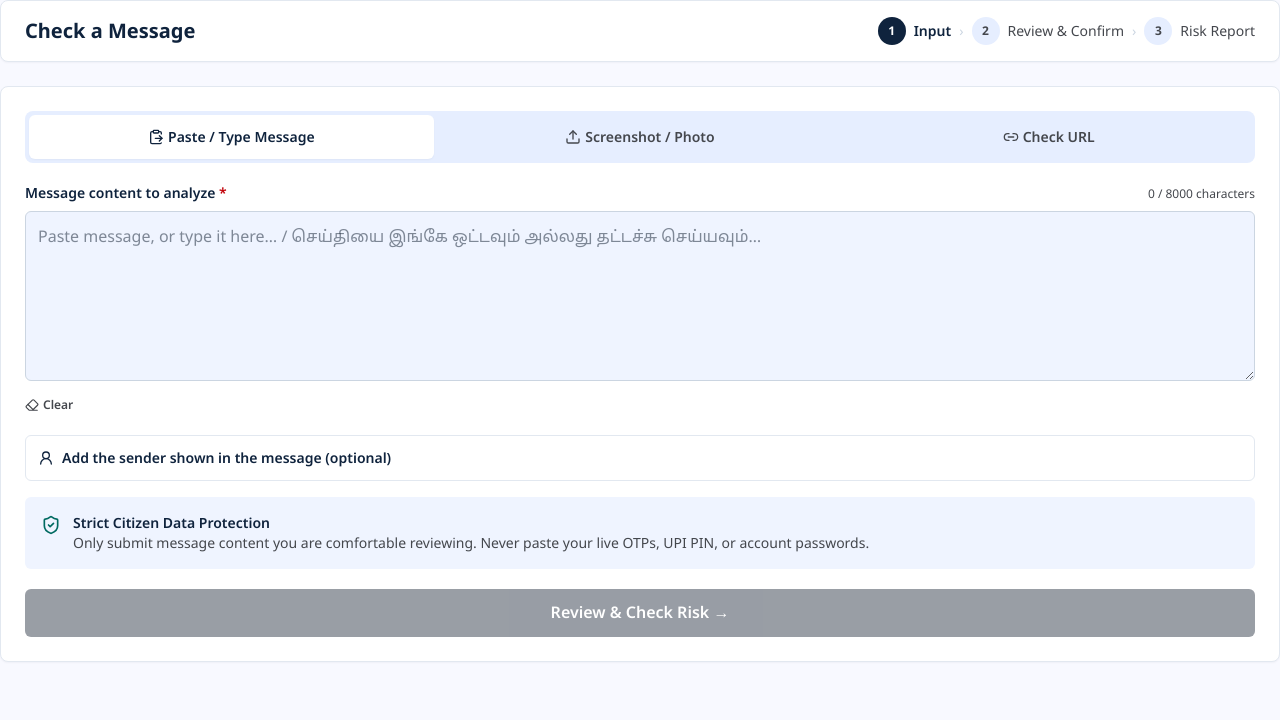
Analyze flow › surfaces backend validation messages
The image size is (1280, 720).
Type "hello" into the text box labelled "Message content to analyze *" at coordinates (640, 296), box [25,211,1255,381]
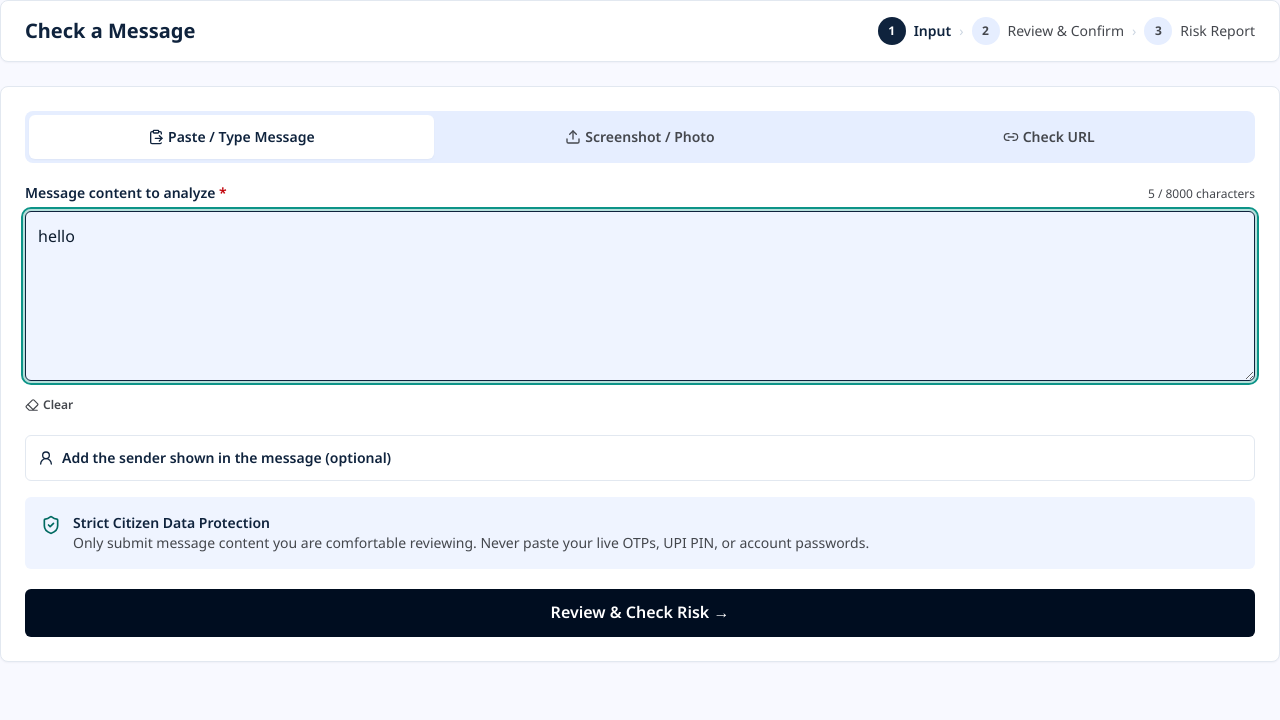
Click the button "Review & Check Risk →" at coordinates (640, 613), box [25,589,1255,637]
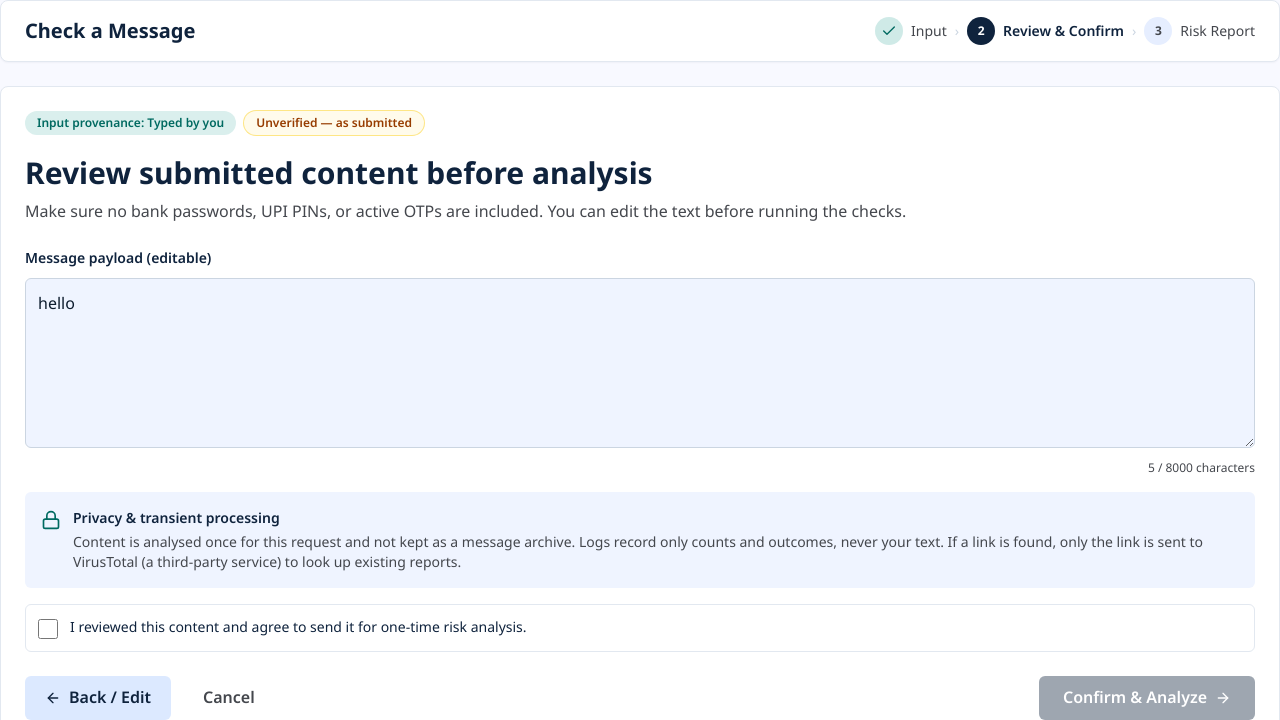
Click the checkbox at coordinates (48, 629), box [38,619,58,639]
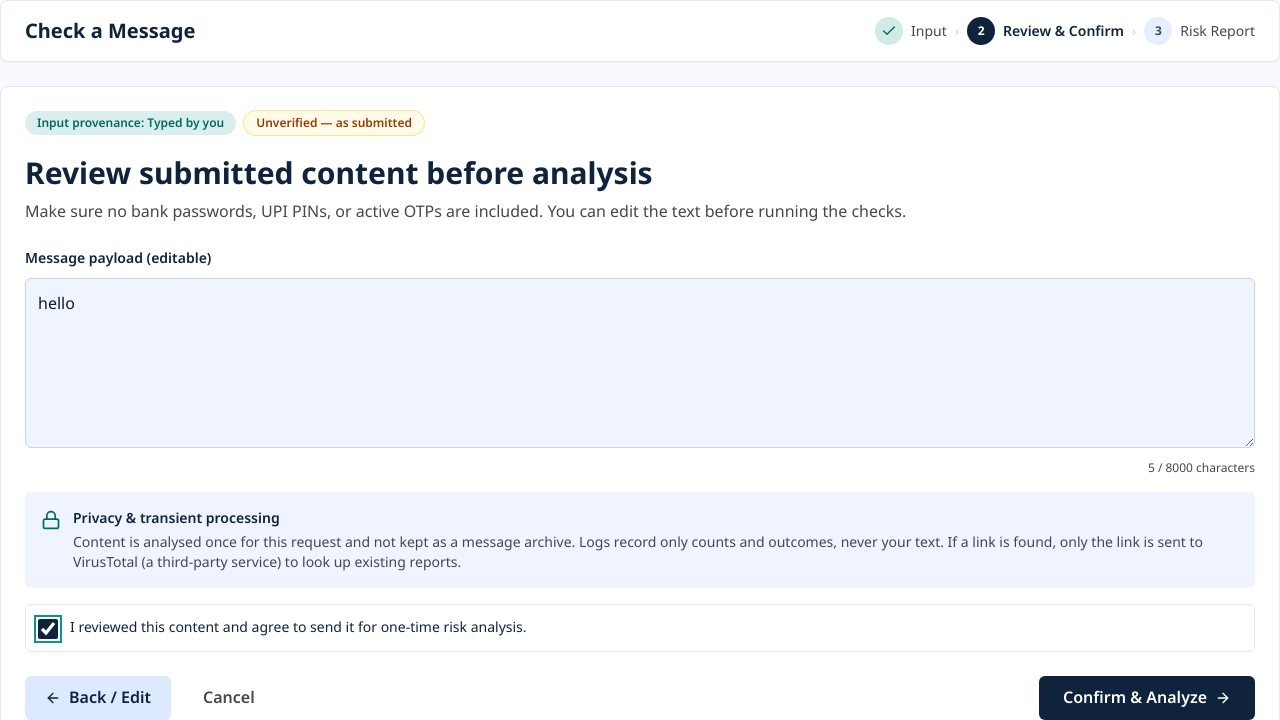
Click the button "Confirm & Analyze" at coordinates (1147, 698), box [1039,676,1255,719]
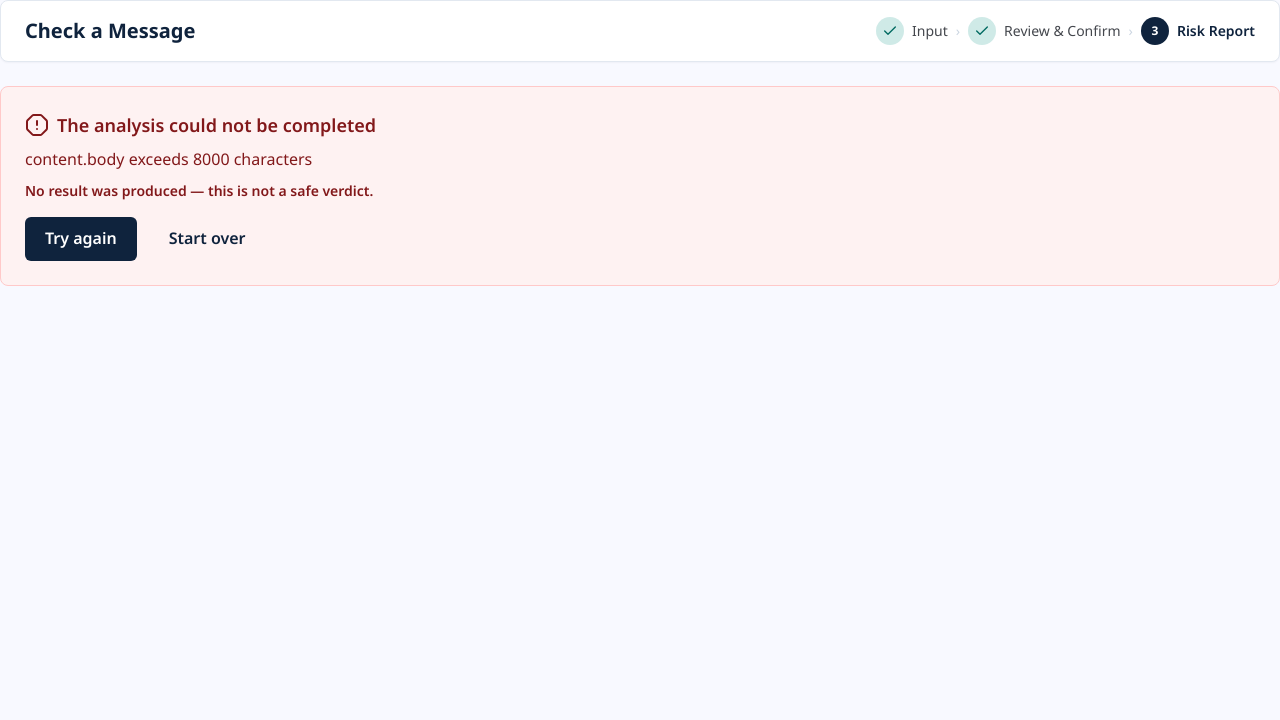
Check: the message shows "exceeds 8000 characters", box [25,148,312,170]
